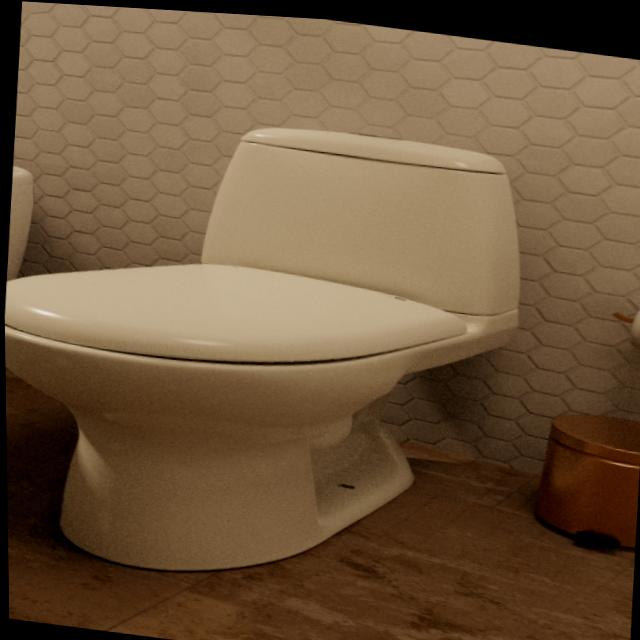toilet: (1, 87, 535, 610)
